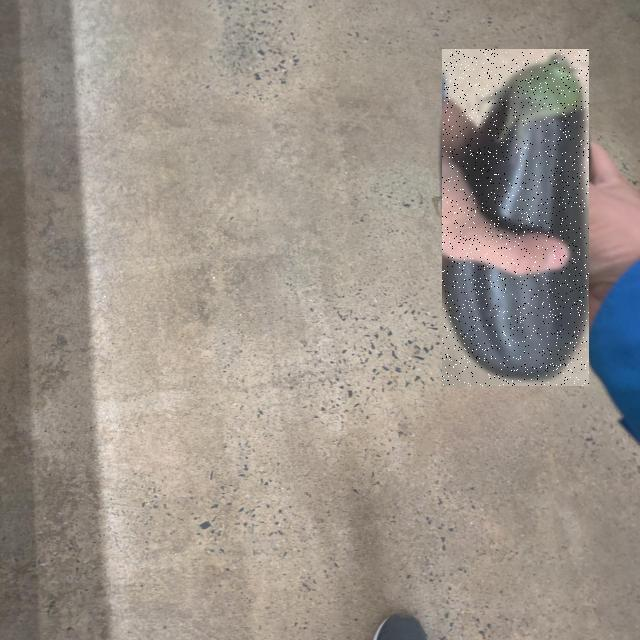Egg Plant: (442, 49, 589, 386)
